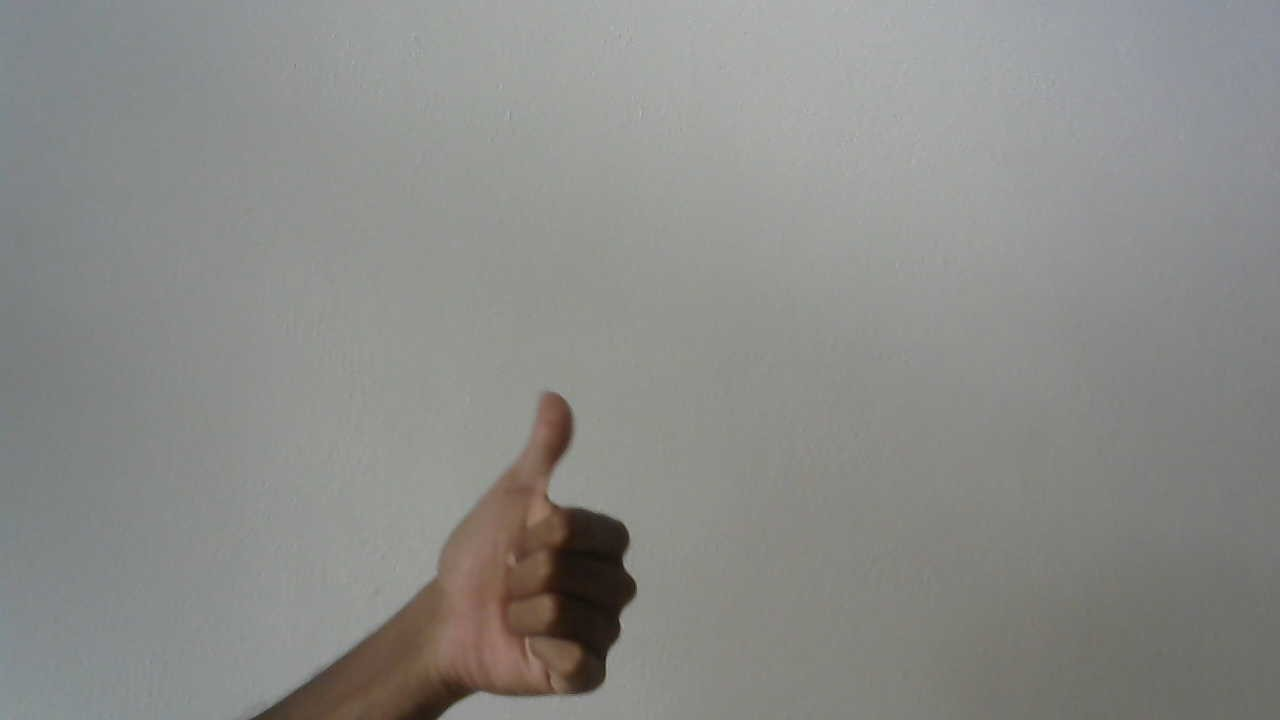thumbsup: (434, 381, 650, 715)
